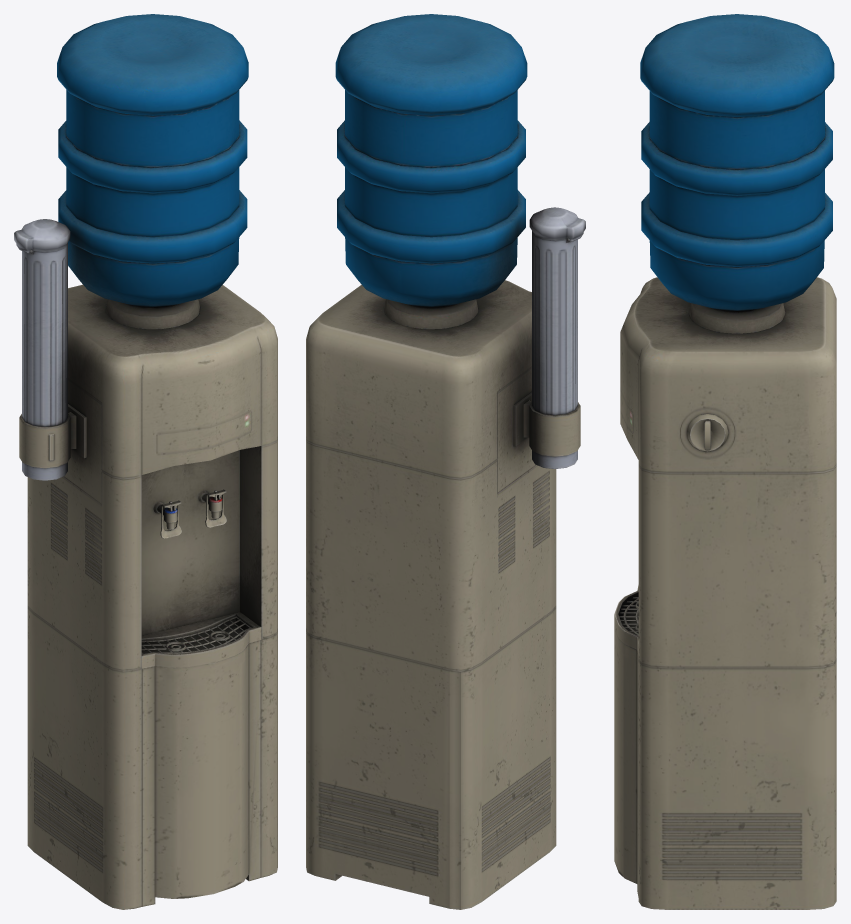
Rendered from waterDispenser.glb.
3 views of the same model, side by side, from view 1: azimuth 30°, elevation 25°; view 2: azimuth 150°, elevation 25°; view 3: azimuth 270°, elevation 25° (orthographic).
Visible parts, largest first — view 1: WaterDispenser_WaterDispenser_0; view 2: WaterDispenser_WaterDispenser_0; view 3: WaterDispenser_WaterDispenser_0.
Part boxes in pixels (x1,y1,x2,y2): WaterDispenser_WaterDispenser_0: (14, 14, 277, 909); WaterDispenser_WaterDispenser_0: (306, 14, 585, 909); WaterDispenser_WaterDispenser_0: (614, 14, 836, 909).
Bounding box in the file's own units: 0.6113 × 2 × 0.4888.
Materials: 1 (1 with a texture image).
